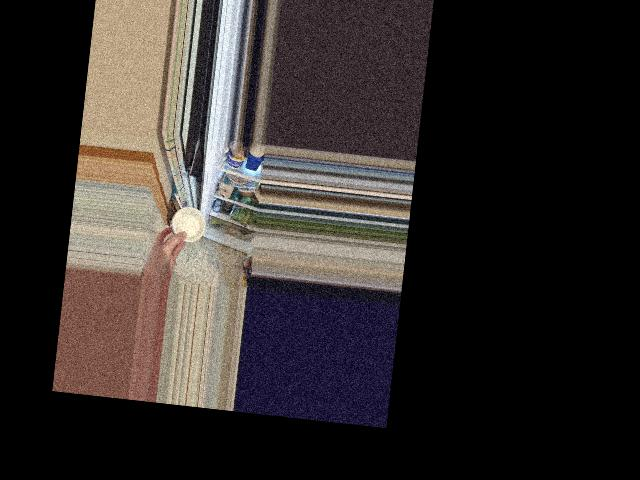cotage: (166, 206, 204, 244)
